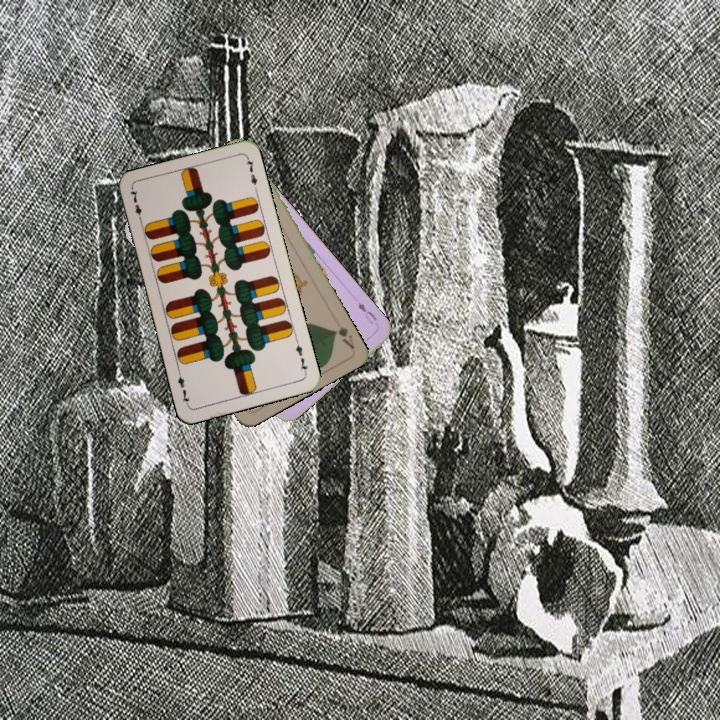E7: (291, 336, 310, 376), (126, 185, 145, 225)
EU: (354, 298, 379, 327)
GA: (330, 322, 357, 352)
